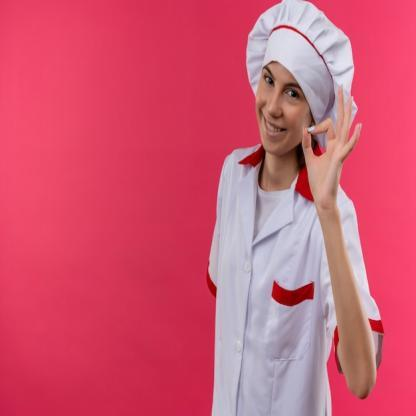ok: (299, 79, 365, 204)
